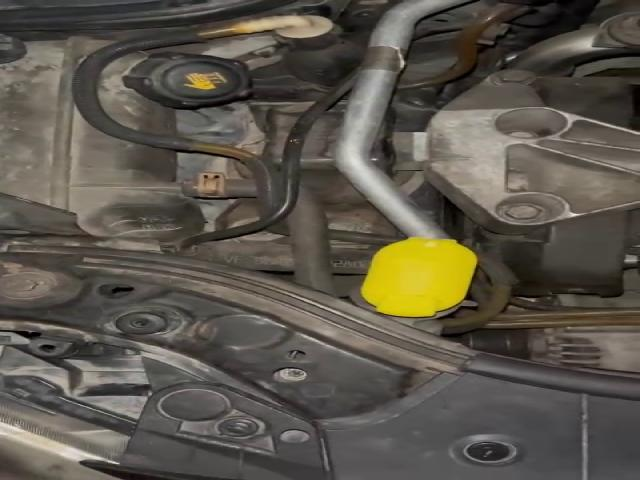antifreeze_tank: (0, 38, 210, 243), (99, 52, 250, 134)
